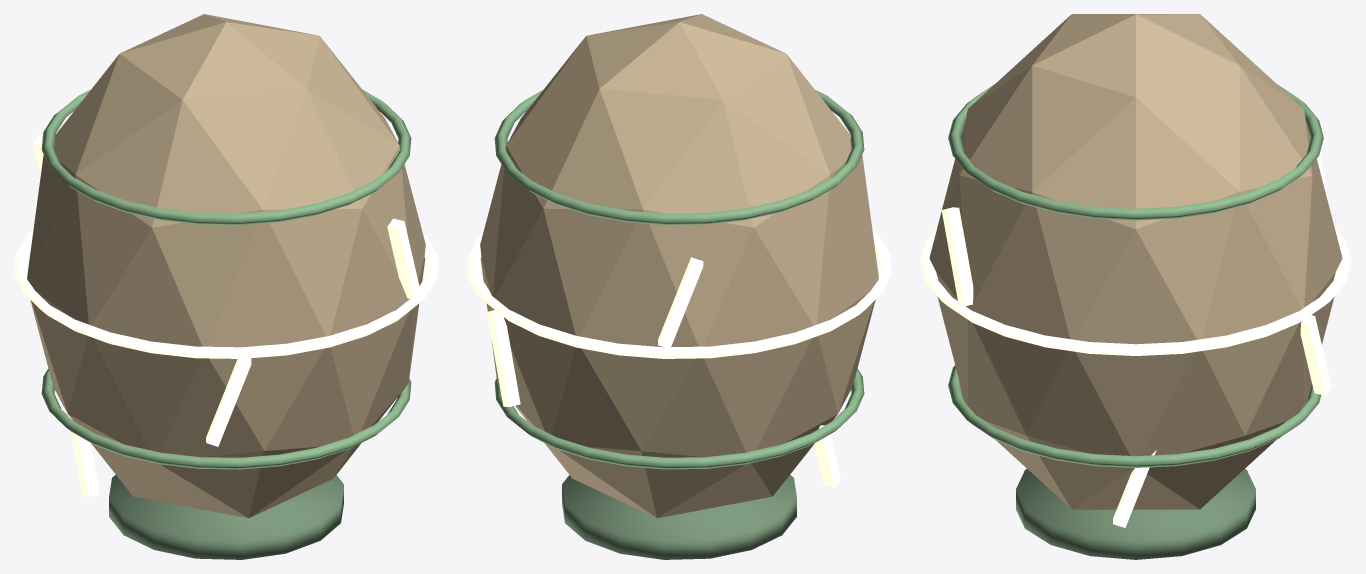
File: egg_prehistoric_03.glb
3 renders of one model, left to right at view 1: azimuth 30°, elevation 25°; view 2: azimuth 150°, elevation 25°; view 3: azimuth 270°, elevation 25°, orthographic.
Parts seen in each view (by area): view 1: ico; view 2: ico; view 3: ico.
Boxes of the visible parts, x1,y1,x2,y2 form: ico: [14, 14, 438, 559]; ico: [467, 14, 891, 559]; ico: [920, 14, 1351, 559].
Size of the model in its own units: 0.79 by 1 by 0.79.
